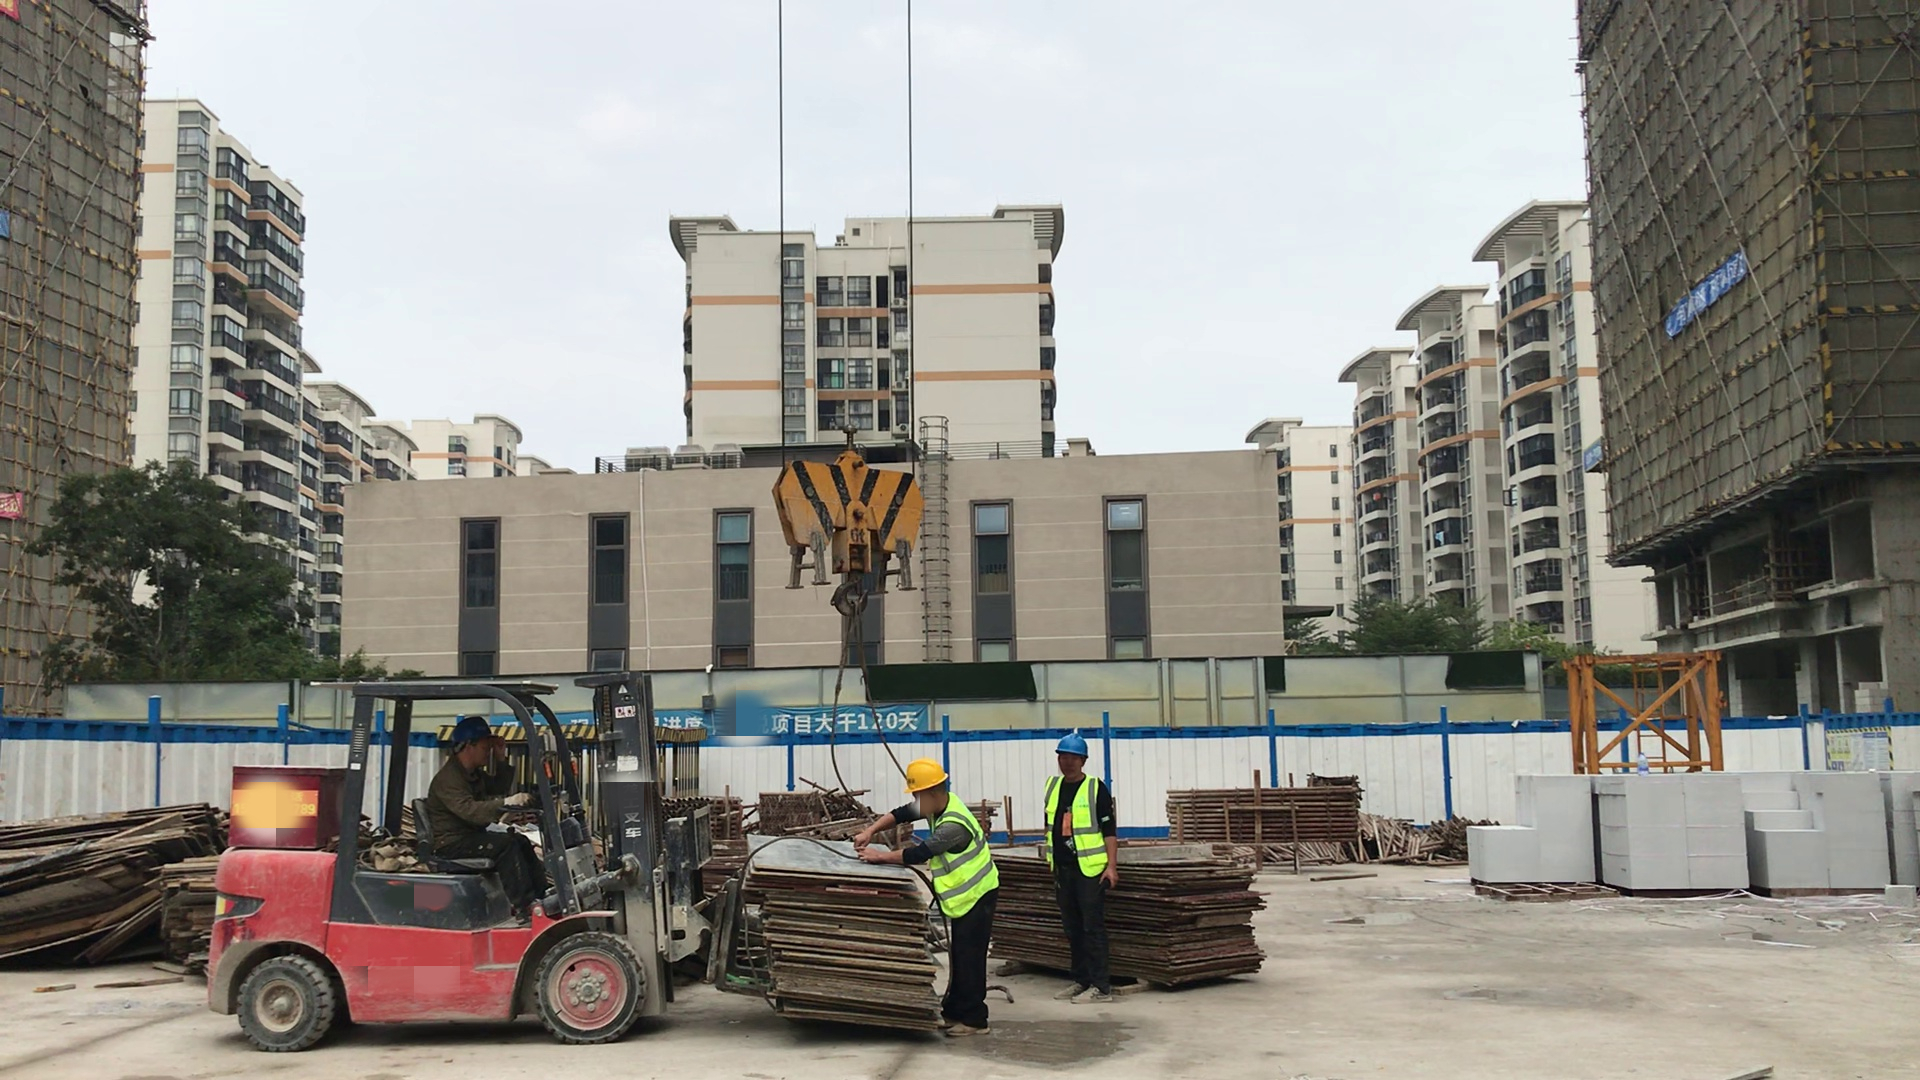board: (743, 830, 946, 1039), (1000, 850, 1266, 985)
brick: (1589, 777, 1751, 891), (1751, 772, 1892, 892), (1466, 774, 1594, 888)
helmet: (904, 760, 948, 792), (449, 717, 494, 744), (1056, 735, 1088, 759)
hook: (771, 424, 927, 615)
person: (853, 760, 995, 1038), (433, 723, 548, 919), (1041, 735, 1118, 1004)
slogan: (667, 715, 928, 741)
vest: (921, 795, 1000, 918), (1046, 773, 1108, 879)
